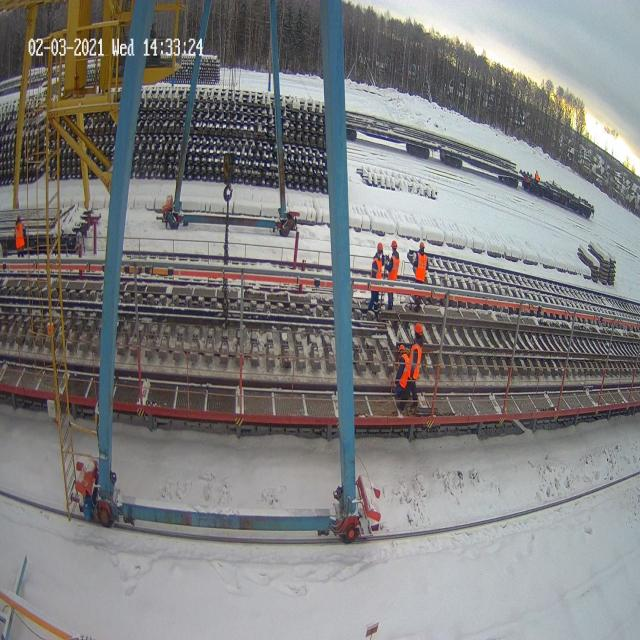Helmet: (414, 323, 422, 334), (398, 344, 405, 354), (377, 242, 383, 252), (391, 240, 397, 248), (419, 241, 425, 248)
Person: (391, 344, 410, 412), (367, 242, 385, 313), (412, 240, 428, 312), (411, 325, 426, 392), (385, 240, 399, 310), (14, 214, 26, 258)
